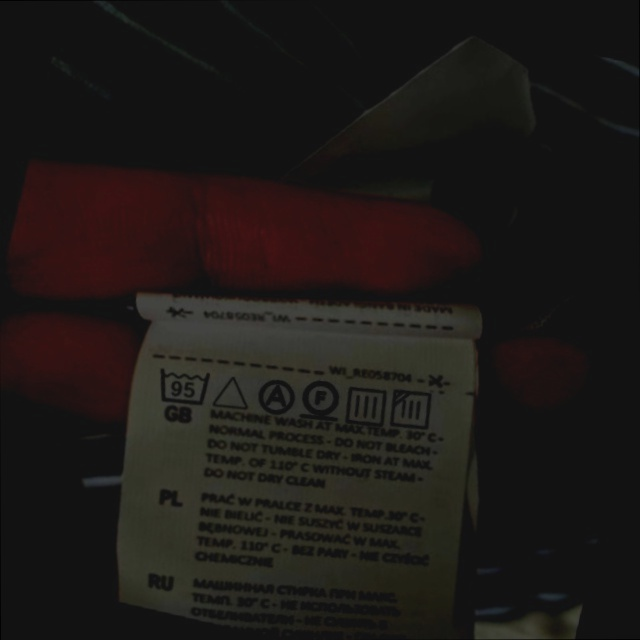95C: (148, 355, 221, 417)
bleach: (206, 363, 258, 419)
drip_dry: (336, 375, 397, 435)
drip_dry_in_shade: (382, 379, 445, 441)
dry_clean: (249, 370, 302, 423)
dry_clean_petrol_only: (293, 368, 350, 429)
